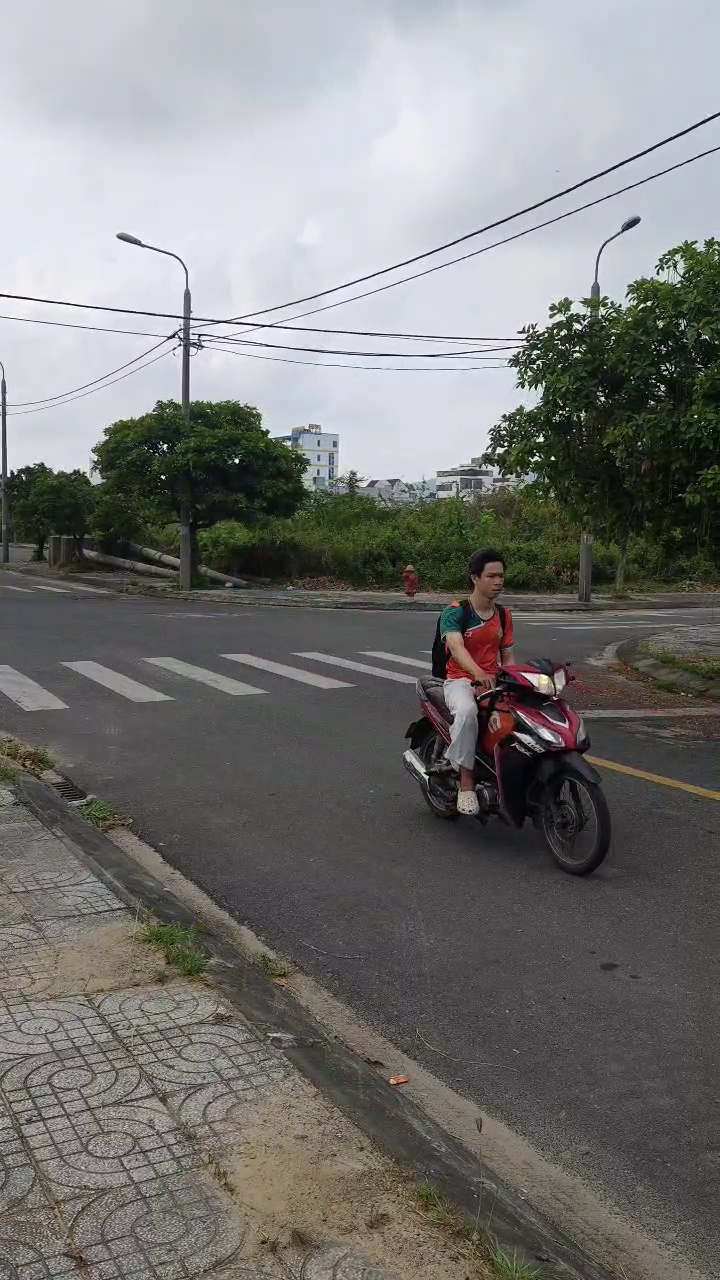no_helmet: (466, 545, 506, 612)
